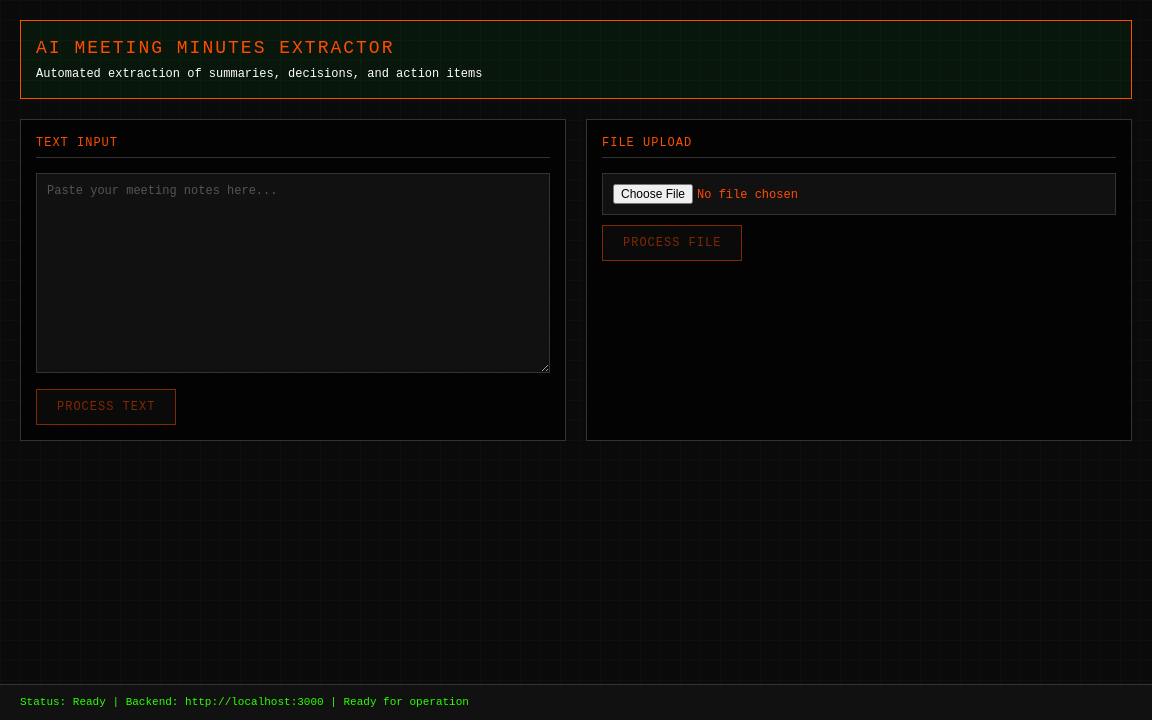
Scenario: App Component › Text Input Functionality › handles API error gracefully
Type "Test meeting notes" into the text box with placeholder "Paste your meeting notes here..." at (293, 273), box x1=36 y1=173 x2=550 y2=373
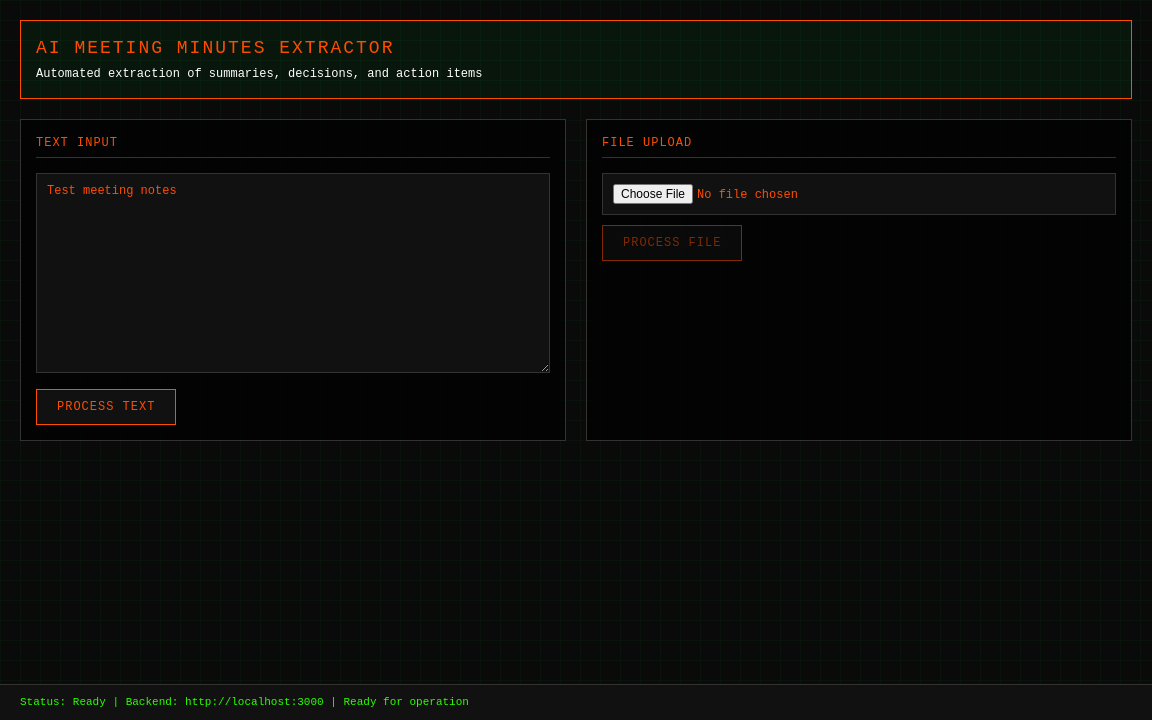
Click the button "Process Text" at (106, 407), box x1=36 y1=389 x2=176 y2=425
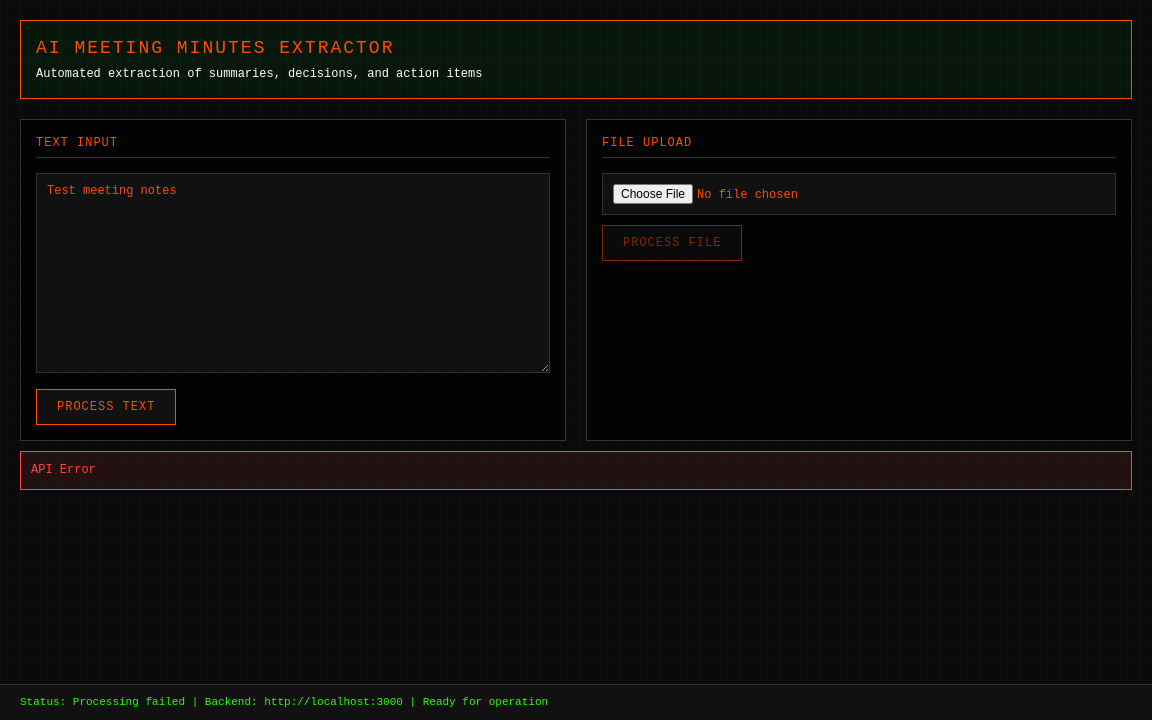
expect the text "API Error" is shown: met, box x1=20 y1=451 x2=1132 y2=490
